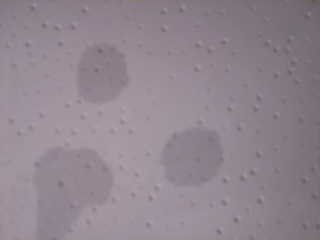Water_detected: (37, 153, 104, 225), (170, 133, 208, 179), (72, 42, 112, 84)
